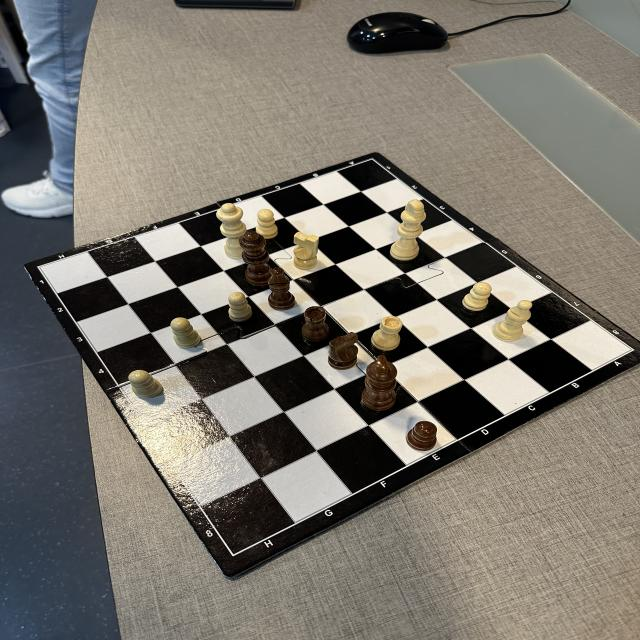Black-Bishop: (267, 267, 296, 311)
Black-King: (360, 355, 398, 412)
Black-Knight: (327, 332, 360, 370)
Black-Pawn: (406, 421, 438, 452)
Black-Queen: (239, 230, 270, 287)
Black-Rook: (301, 306, 330, 342)
White-Bishop: (492, 300, 533, 342)
White-King: (389, 199, 427, 261)
White-Knight: (293, 231, 319, 270)
White-Pawn: (128, 370, 164, 398), (170, 317, 201, 349), (461, 281, 492, 312), (228, 291, 253, 322), (255, 209, 278, 239)
White-Queen: (216, 203, 247, 260)
White-Rook: (371, 316, 403, 352)
